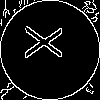X: (25, 25, 72, 59)
